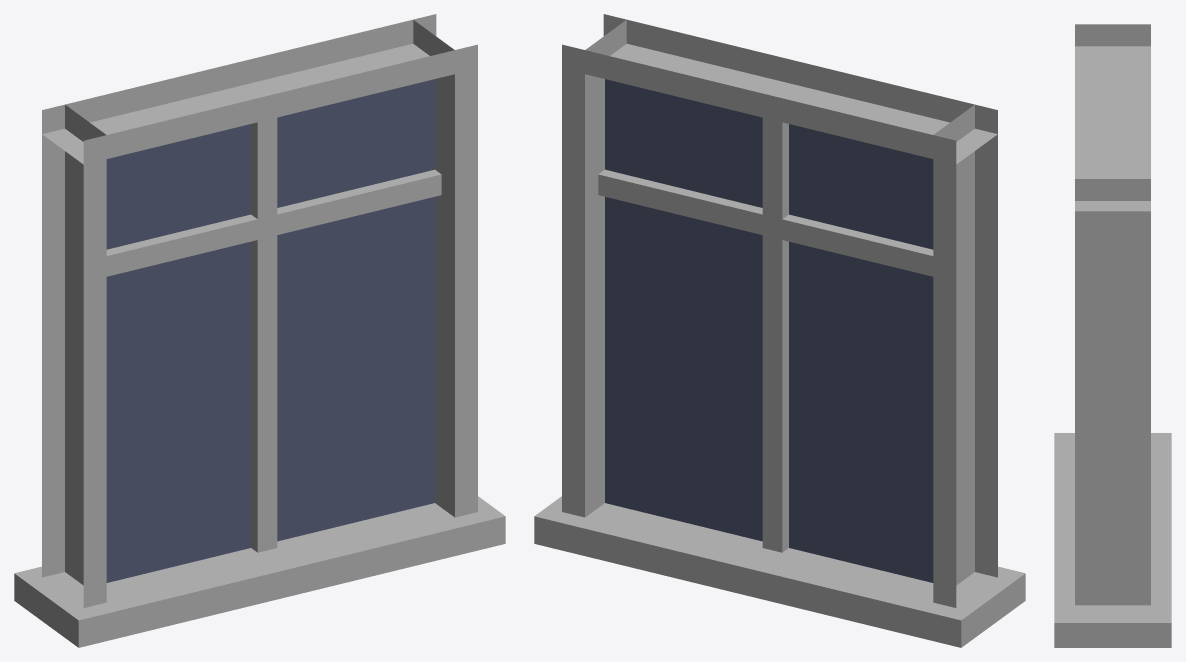
Rendered from window_frame.gltf.
3 renders of one model, left to right at view 1: azimuth 30°, elevation 25°; view 2: azimuth 150°, elevation 25°; view 3: azimuth 270°, elevation 25°, orthographic. The views are drawn at different scales.
Visible parts, largest first — view 1: Mesh; view 2: Mesh; view 3: Mesh.
Part boxes in pixels (x1=…): Mesh: x1=14, y1=14, x2=505, y2=647; Mesh: x1=534, y1=14, x2=1025, y2=647; Mesh: x1=1054, y1=24, x2=1171, y2=647.
Size of the model in its own units: 1.3 by 1.44 by 0.34.
